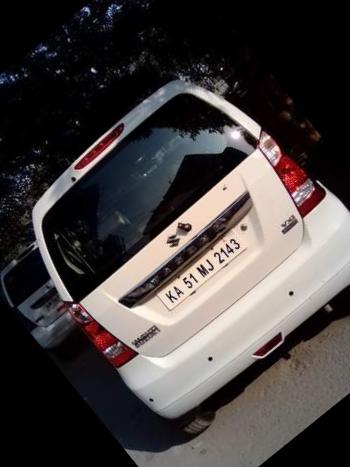plate: (151, 222, 259, 318)
